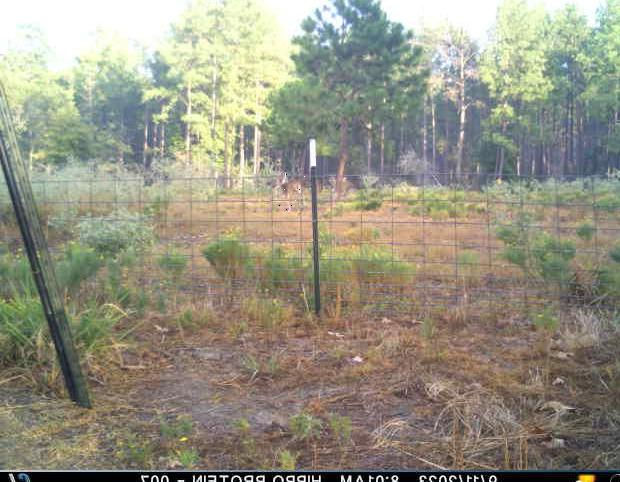Deer: (270, 173, 307, 211)
